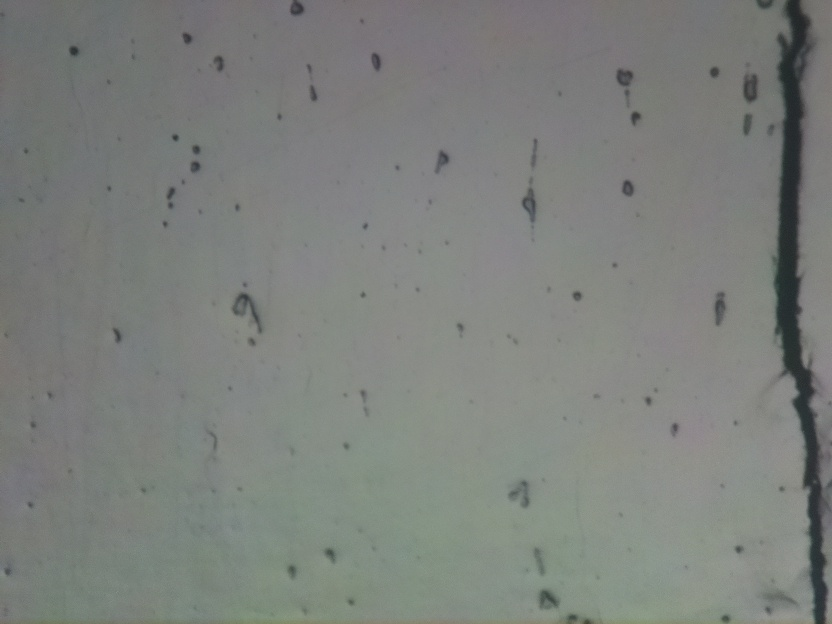crack: (779, 0, 825, 624)
